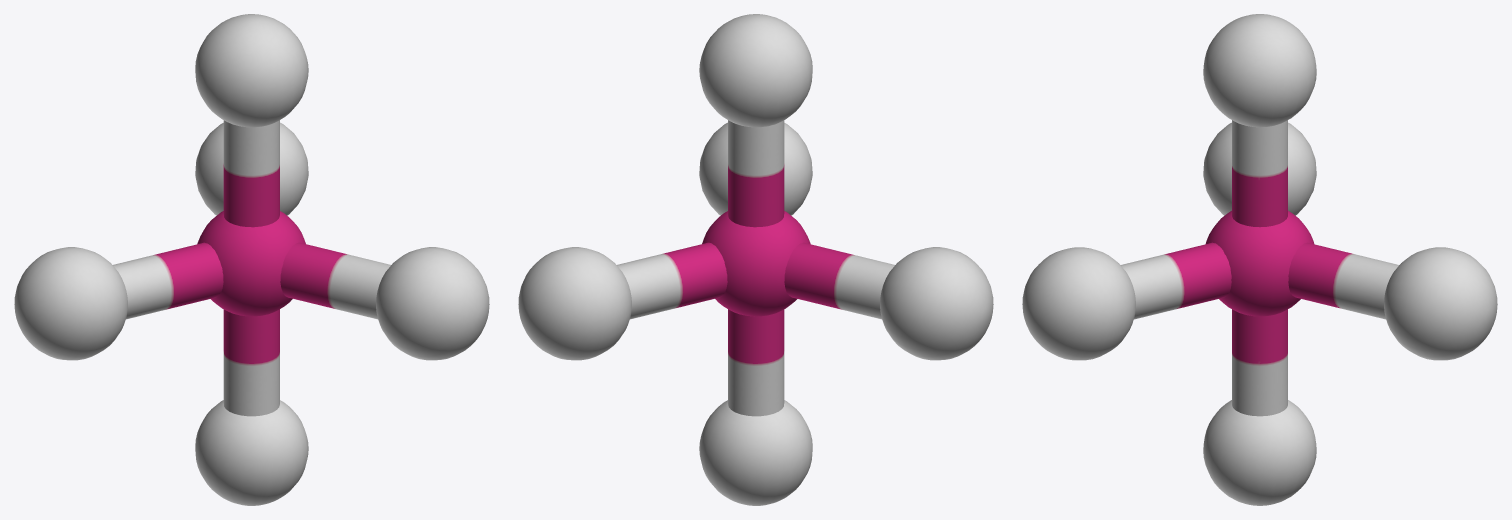
The picture shows the model from 3 angles, left to right: view 1: azimuth 30°, elevation 25°; view 2: azimuth 150°, elevation 25°; view 3: azimuth 270°, elevation 25°; orthographic projection.
Visible parts, largest first — view 1: TrigonalBipyramidalBond; view 2: TrigonalBipyramidalBond; view 3: TrigonalBipyramidalBond.
Part boxes in pixels (<box>): TrigonalBipyramidalBond: <box>14,14,489,505</box>; TrigonalBipyramidalBond: <box>518,14,993,505</box>; TrigonalBipyramidalBond: <box>1022,14,1497,505</box>.
Size of the model in its own units: 76.79 by 95.6 by 85.5.
1 material, 1 textured.
